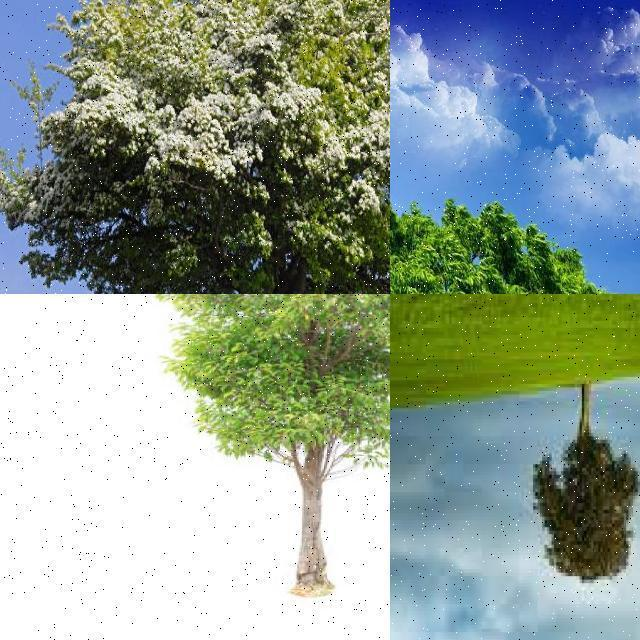tree: (28, 0, 390, 294), (136, 294, 390, 598), (390, 152, 620, 294), (527, 379, 640, 583)
